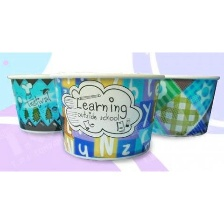paper_cup: (47, 68, 170, 165), (117, 70, 223, 141), (3, 68, 94, 137)
